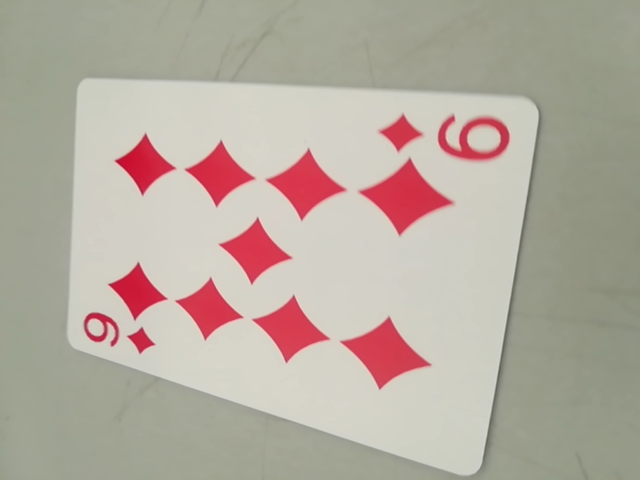fk 9: (376, 102, 515, 166), (72, 309, 164, 362)
